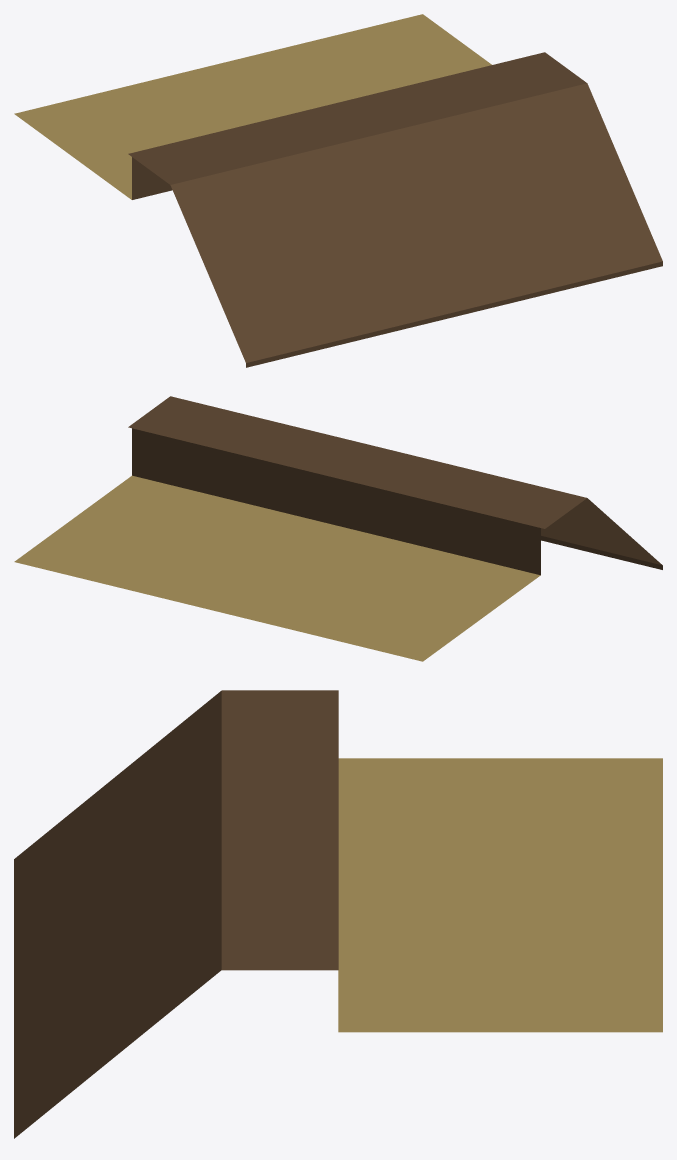
Rendered from Roof Pitch.fbx.
3 views of the same model, one above another, from view 1: azimuth 30°, elevation 25°; view 2: azimuth 150°, elevation 25°; view 3: azimuth 270°, elevation 25° (orthographic). The views are drawn at different scales.
Visible parts, largest first — view 1: Roof Pitch; view 2: Roof Pitch; view 3: Roof Pitch.
Part boxes in pixels (x1=…): Roof Pitch: x1=14, y1=14, x2=662, y2=367; Roof Pitch: x1=14, y1=396, x2=662, y2=661; Roof Pitch: x1=14, y1=690, x2=662, y2=1138.
Bounding box in the file's own units: 102 × 29.81 × 100.
